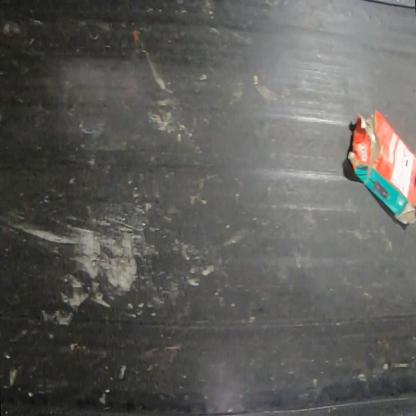cardboard: (347, 110, 416, 226)
